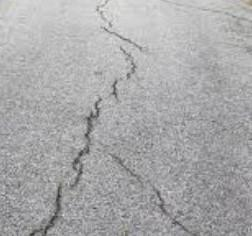crack: (30, 98, 103, 236), (106, 146, 204, 234), (92, 1, 147, 98)
